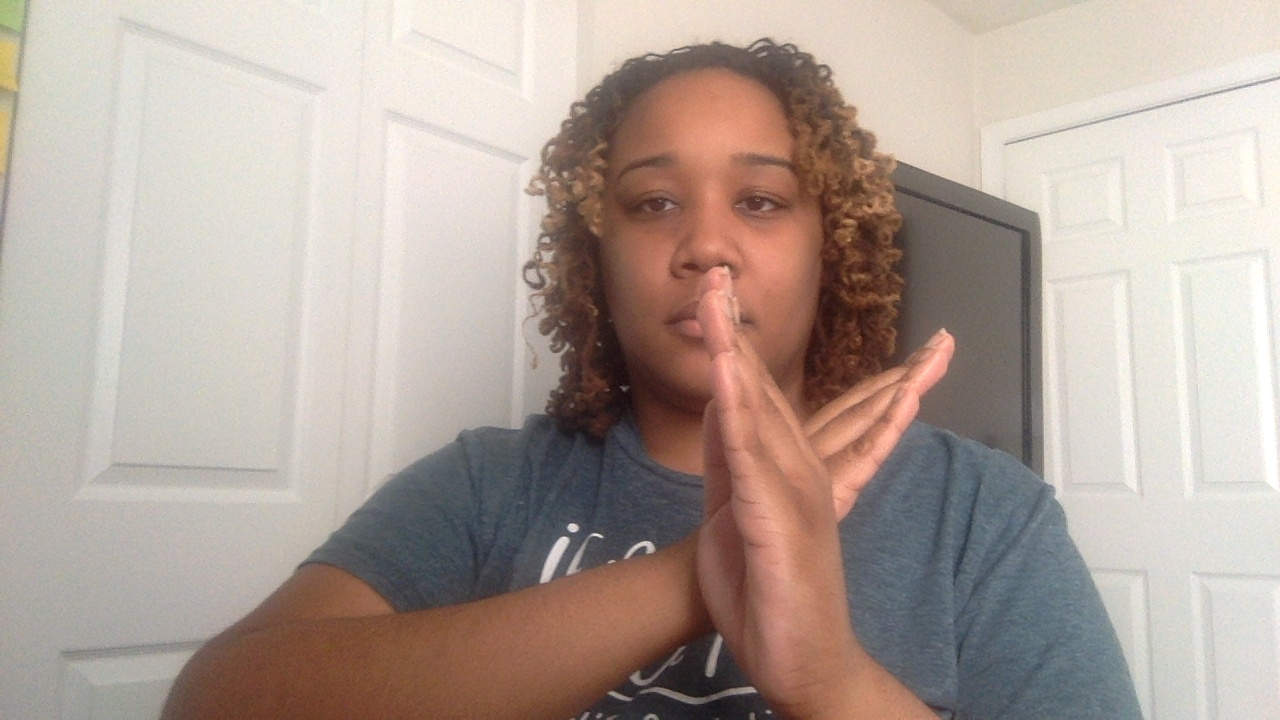quiet: (670, 266, 957, 720)
